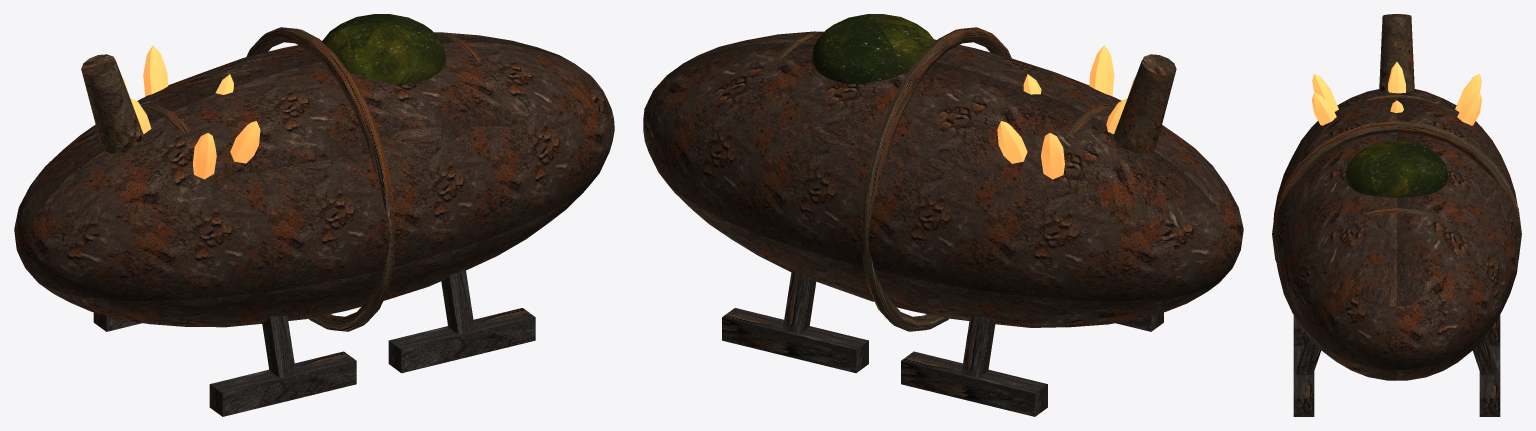
Rendered from god-king-transport-v01-photo.glb.
3 views of the same model, side by side, from view 1: azimuth 30°, elevation 25°; view 2: azimuth 150°, elevation 25°; view 3: azimuth 270°, elevation 25° (orthographic). The views are drawn at different scales.
Visible parts, largest first — view 1: god-king-transport; view 2: god-king-transport; view 3: god-king-transport.
Part boxes in pixels (bbox=[...]): god-king-transport: bbox=[14, 14, 614, 416]; god-king-transport: bbox=[643, 14, 1243, 416]; god-king-transport: bbox=[1272, 14, 1521, 416].
Bounding box in the file's own units: 5.2 × 2.77 × 2.42.
5 materials, 4 textured.
